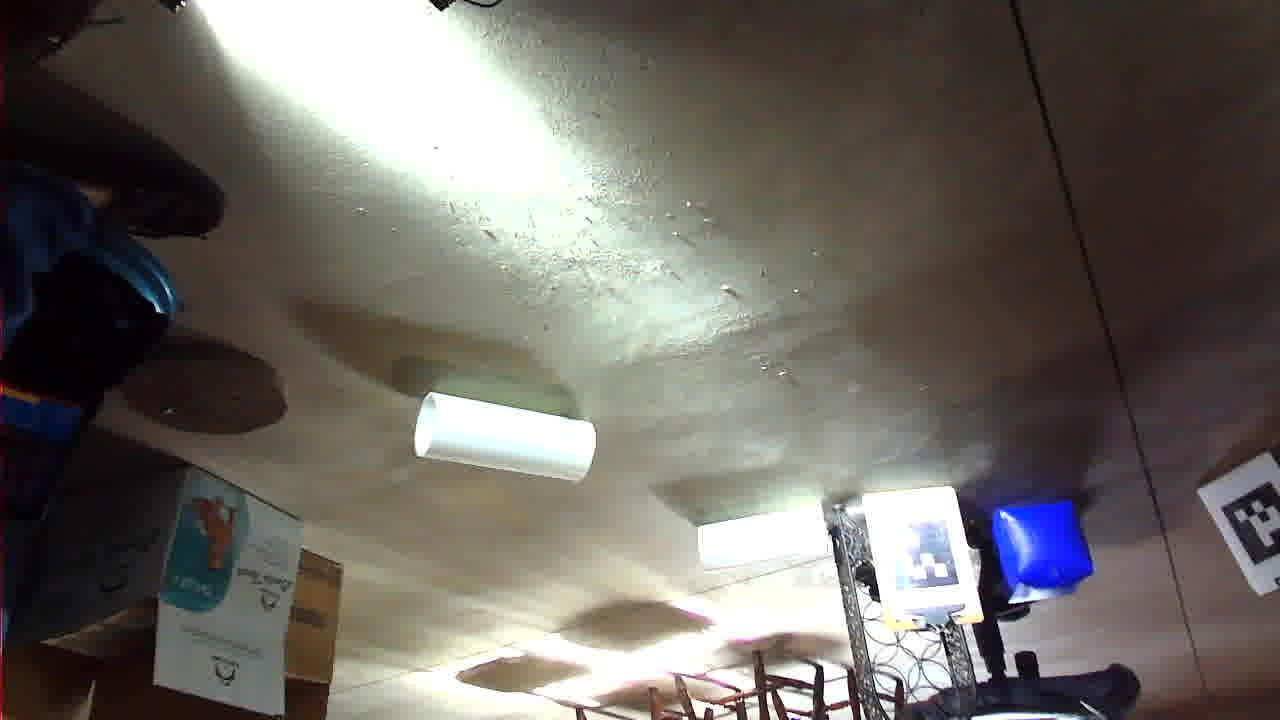coral: (684, 239, 865, 329), (455, 149, 583, 217)
